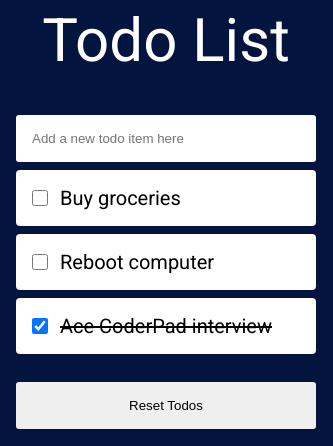
Auto-Sinking Checked Items test suite › Checked item is sent to the bottom
Click the text "Buy groceries" at (121, 198), box top-left (60, 186), bottom-right (181, 210)
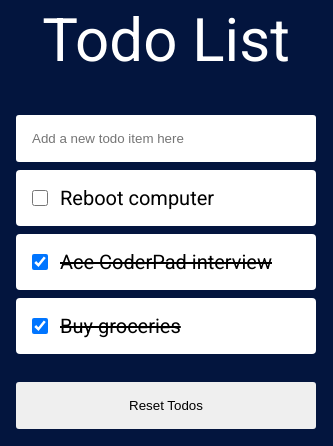
Expected: the text "Buy groceries" is shown, top-left (60, 314), bottom-right (181, 338)
